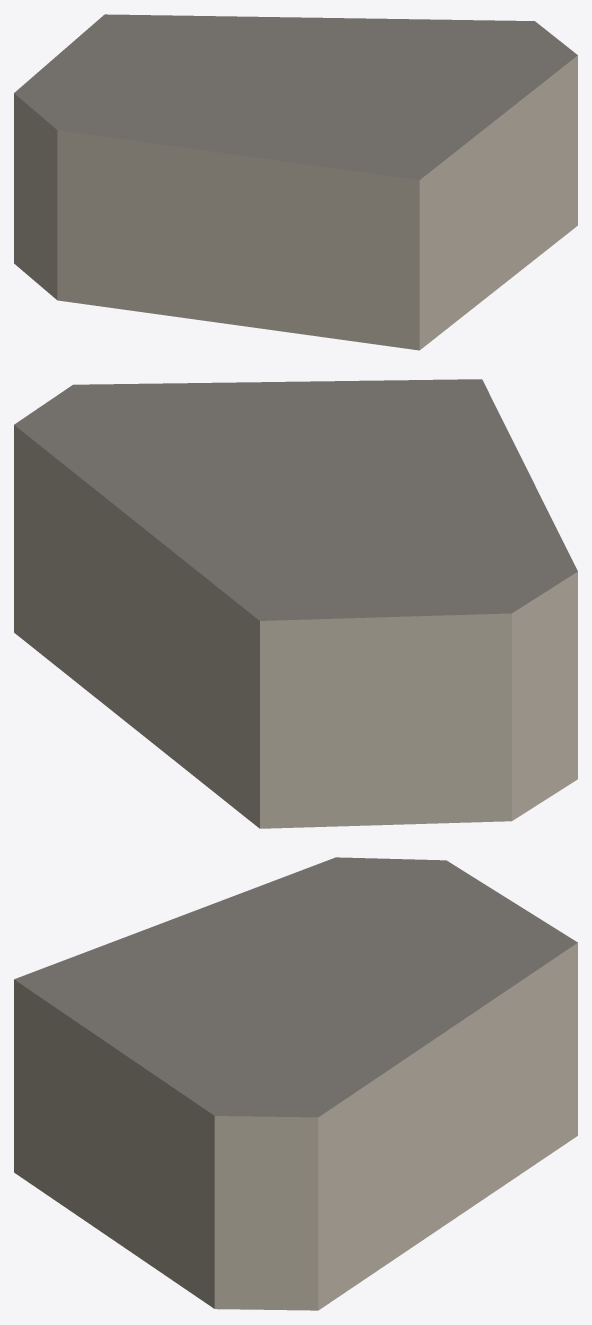
3 renders of one model, top to bottom at view 1: azimuth 30°, elevation 25°; view 2: azimuth 150°, elevation 25°; view 3: azimuth 270°, elevation 25°, orthographic. The views are drawn at different scales.
Parts seen in each view (by area): view 1: HP-w1286965355; view 2: HP-w1286965355; view 3: HP-w1286965355.
Part boxes in pixels (x1,y1,x2,y2): HP-w1286965355: (14, 14, 577, 350); HP-w1286965355: (14, 379, 577, 828); HP-w1286965355: (14, 857, 577, 1310).
Size of the model in its own units: 51.97 by 18 by 47.63.
